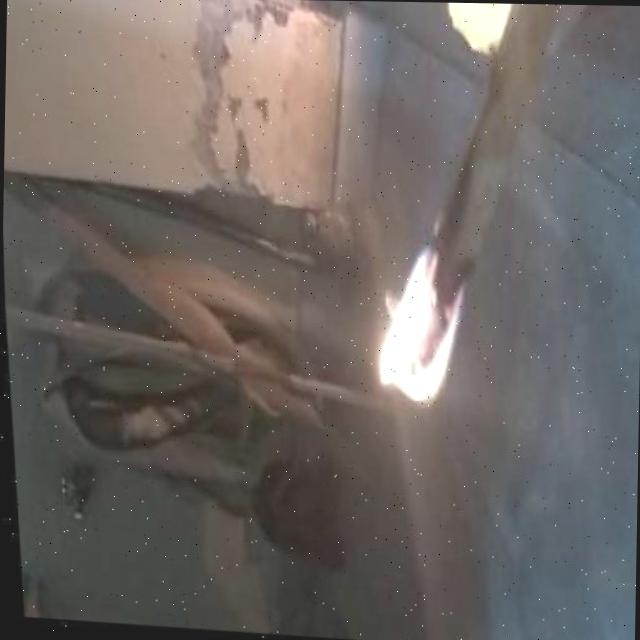fire: (361, 245, 484, 420)
